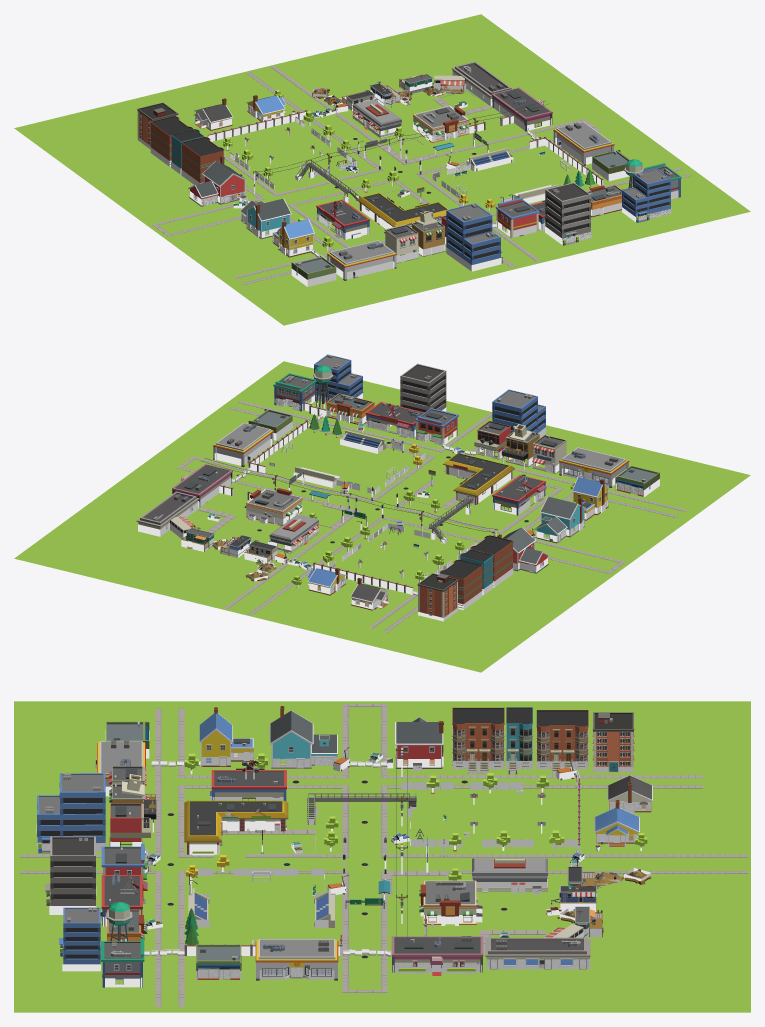
File: 小镇训练图.fbx
3 views of the same model, one above another, from view 1: azimuth 30°, elevation 25°; view 2: azimuth 150°, elevation 25°; view 3: azimuth 270°, elevation 25° (orthographic). The views are drawn at different scales.
Parts seen in each view (by area): view 1: 地面_底板, Combined_Mesh_(root__scene)_2, Combined_Mesh_(root__scene), 地面_路面_01, Combined_Mesh_(root__scene)_3, 屋顶_04, 屋顶_12, 屋顶_11, 屋顶_05, 屋顶_24, 屋顶_07, 屋顶_21 (+7 smaller); view 2: 地面_底板, Combined_Mesh_(root__scene)_2, Combined_Mesh_(root__scene), 地面_路面_01, Combined_Mesh_(root__scene)_3, 屋顶_12, 屋顶_11, 屋顶_19, 屋顶_07, 屋顶_21, 屋顶_87, 屋顶_05 (+10 smaller); view 3: 地面_底板, Combined_Mesh_(root__scene)_2, 地面_路面_01, Combined_Mesh_(root__scene), 屋顶_02, Combined_Mesh_(root__scene)_3, 屋顶_11, 屋顶_04, 屋顶_21, 屋顶_19, 屋顶_87, 屋顶_07 (+23 smaller).
Part boxes in pixels (x1,y1,x2,y2): 地面_底板: (14,14,750,325); Combined_Mesh_(root__scene)_2: (137,62,630,279); Combined_Mesh_(root__scene): (157,70,689,284); 地面_路面_01: (152,66,690,284); Combined_Mesh_(root__scene)_3: (195,74,680,280); 屋顶_04: (441,203,502,259); 屋顶_12: (327,240,396,266); 屋顶_11: (554,121,614,151); 屋顶_05: (416,61,498,87); 屋顶_24: (194,156,246,199); 屋顶_07: (413,105,485,134); 屋顶_21: (495,88,549,123); 地面_底板: (14,361,750,672); Combined_Mesh_(root__scene)_2: (136,364,659,617); Combined_Mesh_(root__scene): (153,355,679,632); 地面_路面_01: (177,401,687,632); Combined_Mesh_(root__scene)_3: (181,392,628,610); 屋顶_12: (559,447,628,478); 屋顶_11: (213,422,273,452); 屋顶_19: (526,496,582,535); 屋顶_07: (245,488,301,519); 屋顶_21: (175,462,237,493); 屋顶_87: (450,454,508,490); 屋顶_05: (137,500,195,540); 地面_底板: (14,701,750,1012); Combined_Mesh_(root__scene)_2: (45,707,652,980); 地面_路面_01: (20,704,747,1006); Combined_Mesh_(root__scene): (20,706,747,992); 屋顶_02: (500,707,587,772); Combined_Mesh_(root__scene)_3: (101,779,651,987); 屋顶_11: (255,939,338,968); 屋顶_04: (37,773,112,843); 屋顶_21: (394,922,480,962); 屋顶_19: (269,706,348,763); 屋顶_87: (189,802,282,835); 屋顶_07: (419,880,482,924).
Bounding box in the file's own units: 328 × 32.57 × 328.
26 materials, 25 textured.
